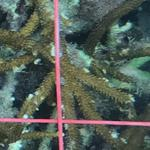alive: (7, 12, 142, 145)
